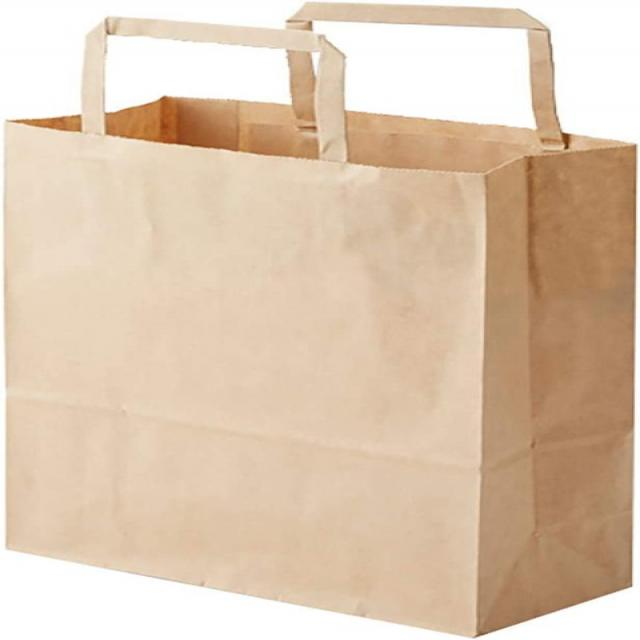paper bag: (13, 1, 637, 638)
